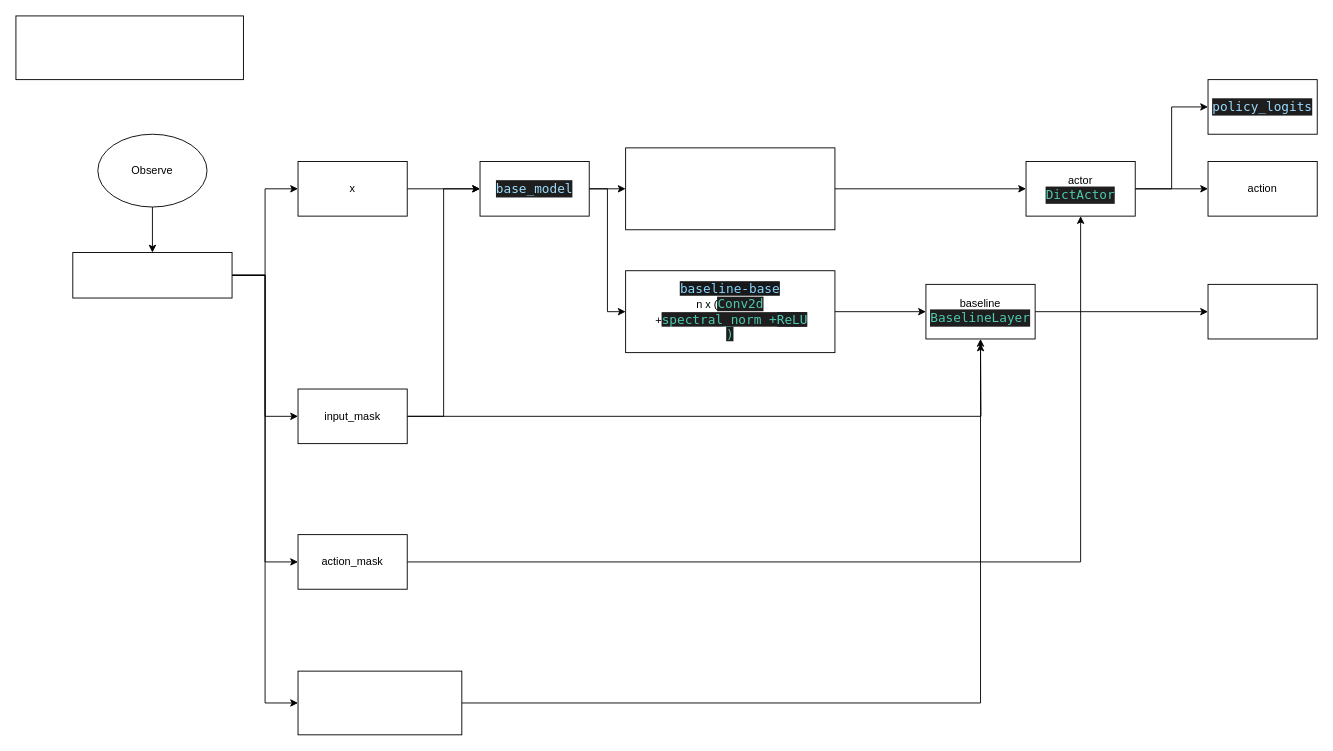
The diagram is 1333 pixels wide and 751 high, and some of its shapes have lost their labels. The shapes that lost their labels are listed below. From the top down, each one's box as (x1, y1, x2, y2) in pixels, then its label:
(15, 15, 243, 80): BasicActorCriticNetwork
(625, 147, 835, 230): actor_base n x ( Conv2d + spectral_norm + ReLU )
(72, 252, 232, 298): dict_input_layer
(1207, 283, 1317, 339): baseline
(297, 670, 462, 735): subtask_embeddings
